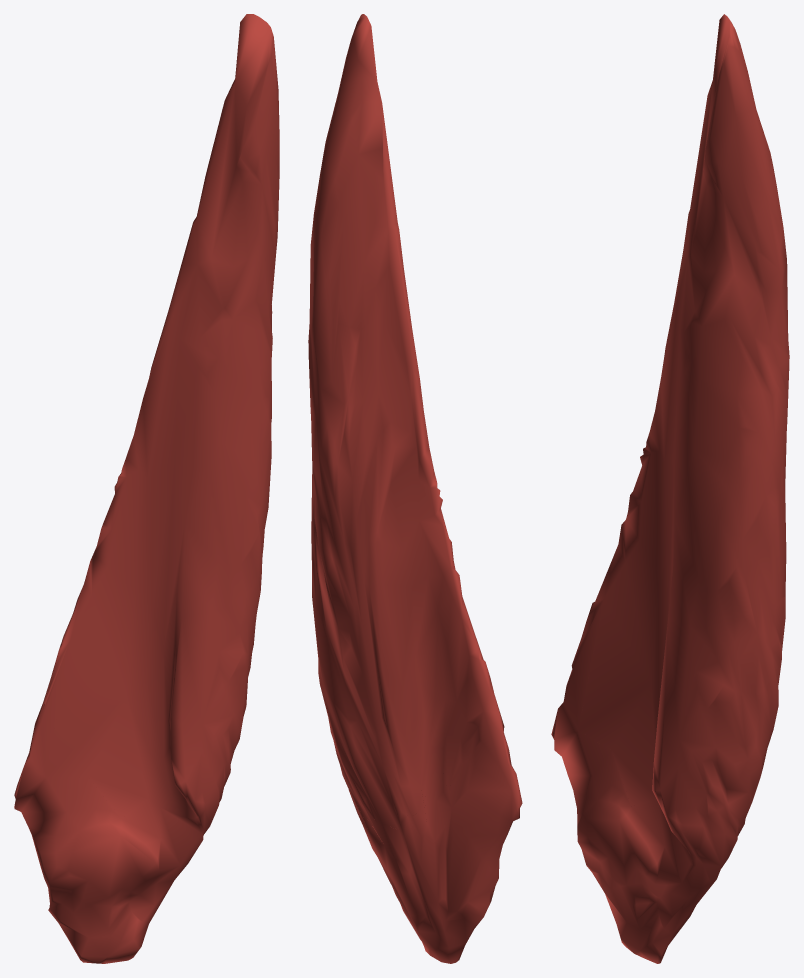
File: musculos-medial-head-of-triceps-brachii-r.glb
The picture shows the model from 3 angles, left to right: view 1: azimuth 30°, elevation 25°; view 2: azimuth 150°, elevation 25°; view 3: azimuth 330°, elevation 25°; orthographic projection. The views are drawn at different scales.
Visible parts, largest first — view 1: Medial head of triceps brachii.r; view 2: Medial head of triceps brachii.r; view 3: Medial head of triceps brachii.r.
Boxes of the visible parts, left/top/right/bottom form: Medial head of triceps brachii.r: left=14, top=14, right=279, bottom=963; Medial head of triceps brachii.r: left=308, top=14, right=522, bottom=963; Medial head of triceps brachii.r: left=551, top=14, right=789, bottom=963.
Size of the model in its own units: 0.0623 by 0.2343 by 0.0266.
